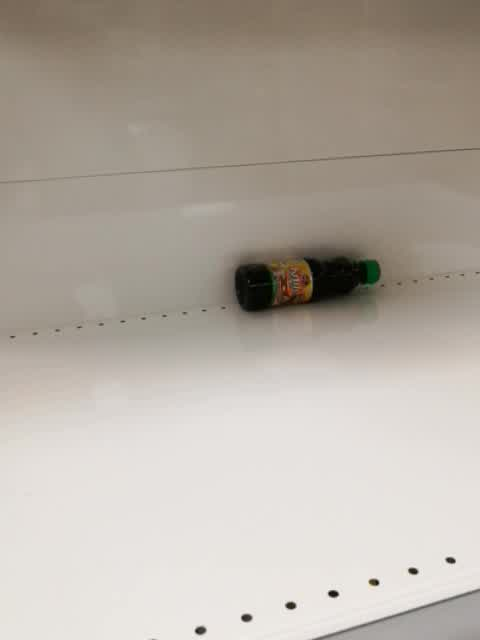cookingoil: (231, 253, 382, 312)
